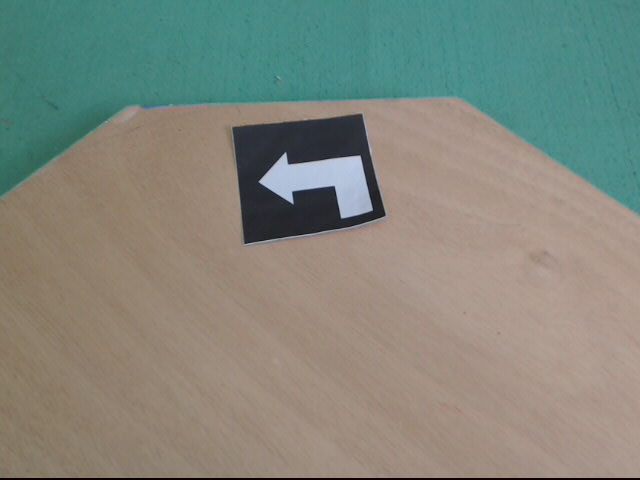left: (228, 113, 390, 248)
